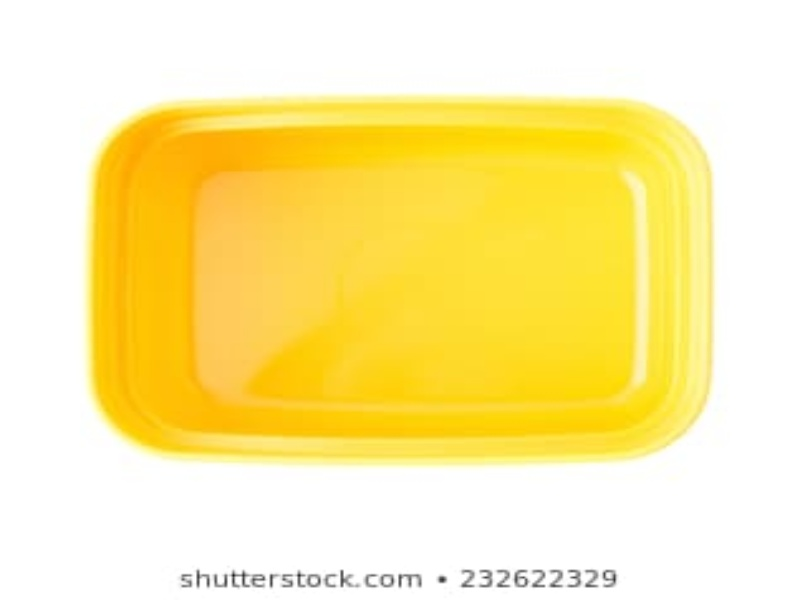plastic-tray: (86, 98, 720, 466)
